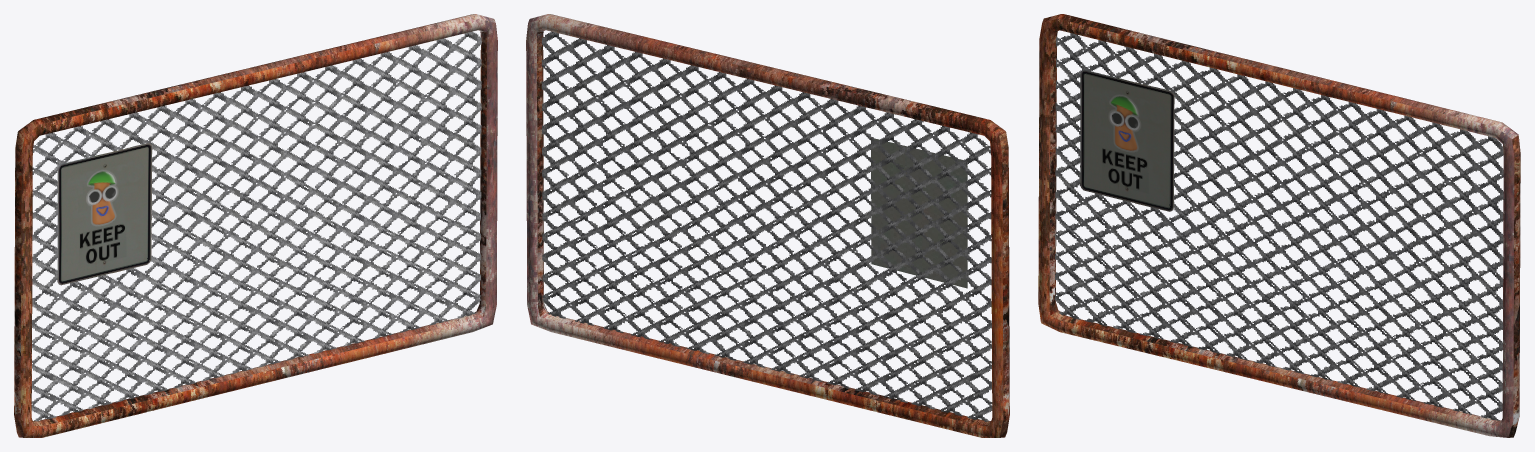
The model's file is PortonAlambres.glb.
The picture shows the model from 3 angles, left to right: view 1: azimuth 30°, elevation 25°; view 2: azimuth 150°, elevation 25°; view 3: azimuth 330°, elevation 25°; orthographic projection.
Parts seen in each view (by area): view 1: Cube.046, Cube.047, Cube.075; view 2: Cube.046, Cube.047, Cube.075; view 3: Cube.046, Cube.047, Cube.075.
Part boxes in pixels (x1,y1,x2,y2): Cube.046: (31, 32, 481, 421); Cube.047: (14, 14, 497, 437); Cube.075: (57, 143, 152, 285); Cube.046: (541, 31, 992, 421); Cube.047: (526, 14, 1009, 437); Cube.075: (871, 138, 967, 288); Cube.046: (1055, 33, 1503, 420); Cube.047: (1038, 14, 1520, 437); Cube.075: (1080, 69, 1174, 211).
Bounding box in the file's own units: 1.43 × 0.9056 × 0.0552.
3 materials, 3 textured.
